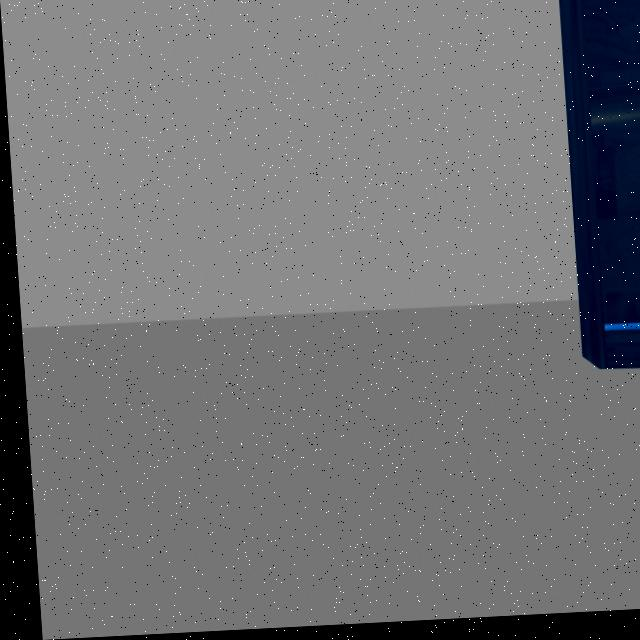shelf: (544, 0, 640, 406)
